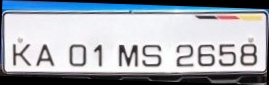character: (116, 42, 138, 68), (11, 42, 32, 67), (141, 43, 161, 68), (35, 44, 56, 67), (175, 43, 194, 68), (218, 42, 237, 67), (68, 43, 86, 67), (239, 42, 257, 66), (197, 43, 214, 67), (92, 42, 103, 68)
